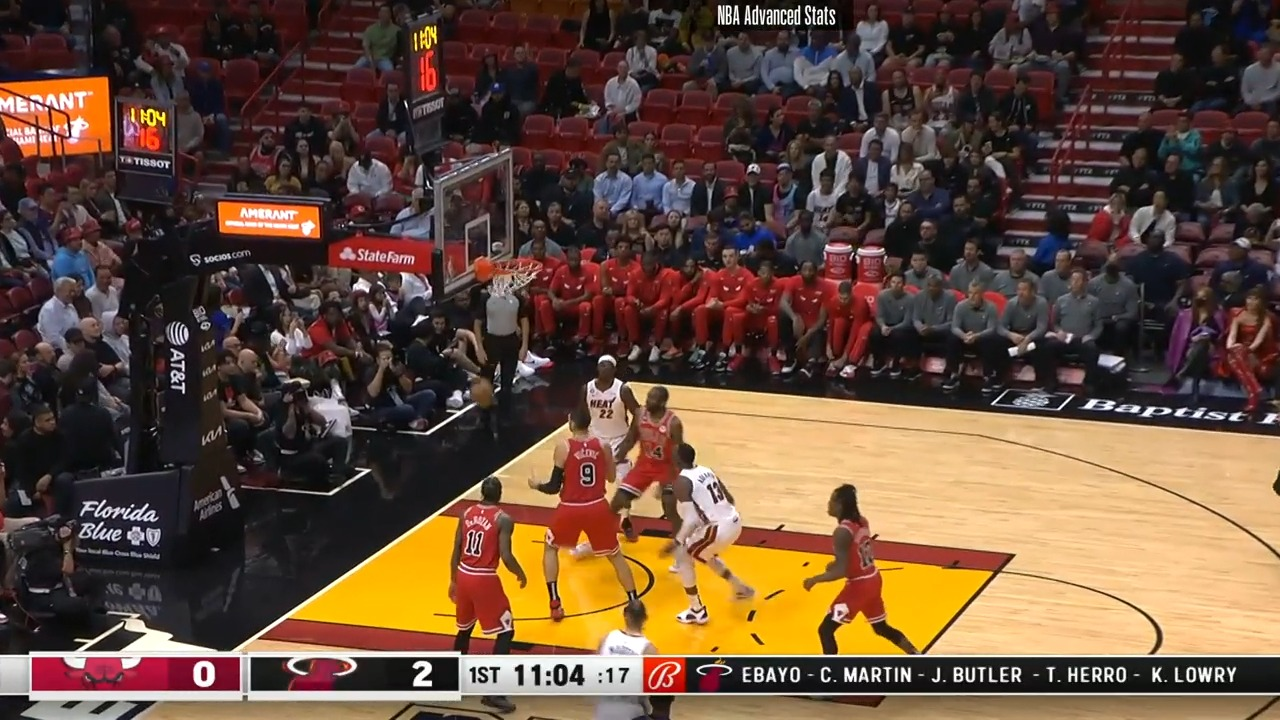net: (469, 251, 545, 310)
player: (530, 402, 643, 627), (802, 481, 931, 654), (645, 442, 756, 631), (440, 474, 529, 651), (612, 385, 694, 548), (528, 407, 628, 507), (584, 599, 661, 720), (574, 356, 640, 450)
referee: (468, 265, 525, 423)
